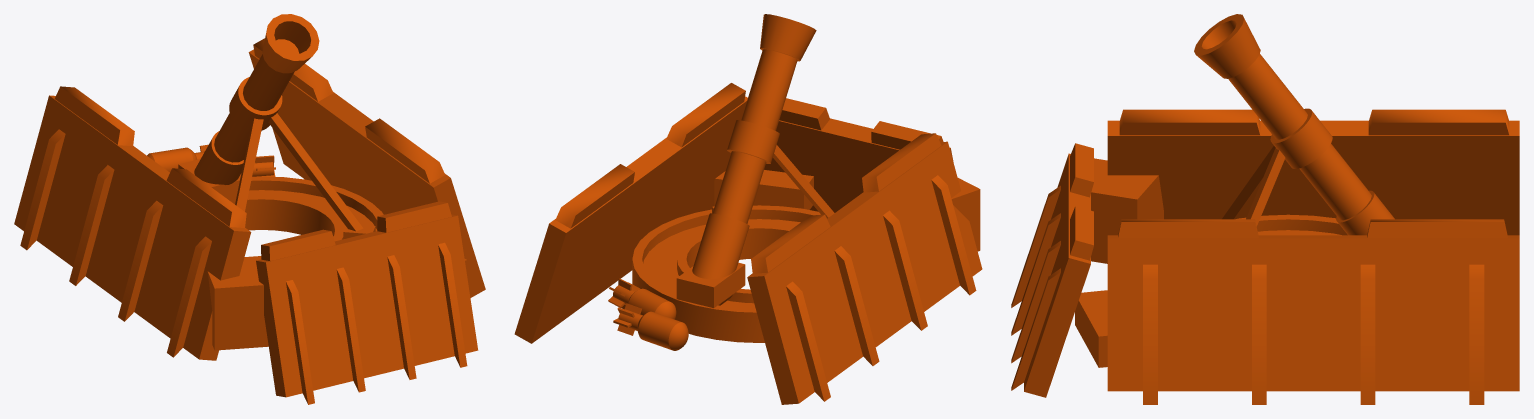
The model's file is mortar model export.fbx.
The picture shows the model from 3 angles, left to right: view 1: azimuth 30°, elevation 25°; view 2: azimuth 150°, elevation 25°; view 3: azimuth 270°, elevation 25°; orthographic projection. The views are drawn at different scales.
Parts seen in each view (by area): view 1: base_1, Turret_1; view 2: base_1, Turret_1; view 3: base_1, Turret_1.
Part boxes in pixels (x1,y1,x2,y2): base_1: (14,38,485,404); Turret_1: (178,14,375,239); base_1: (514,83,982,404); Turret_1: (676,14,834,308); base_1: (1011,109,1519,404); Turret_1: (1194,14,1394,235).
Bounding box in the file's own units: 42.25 × 38.88 × 54.52.
